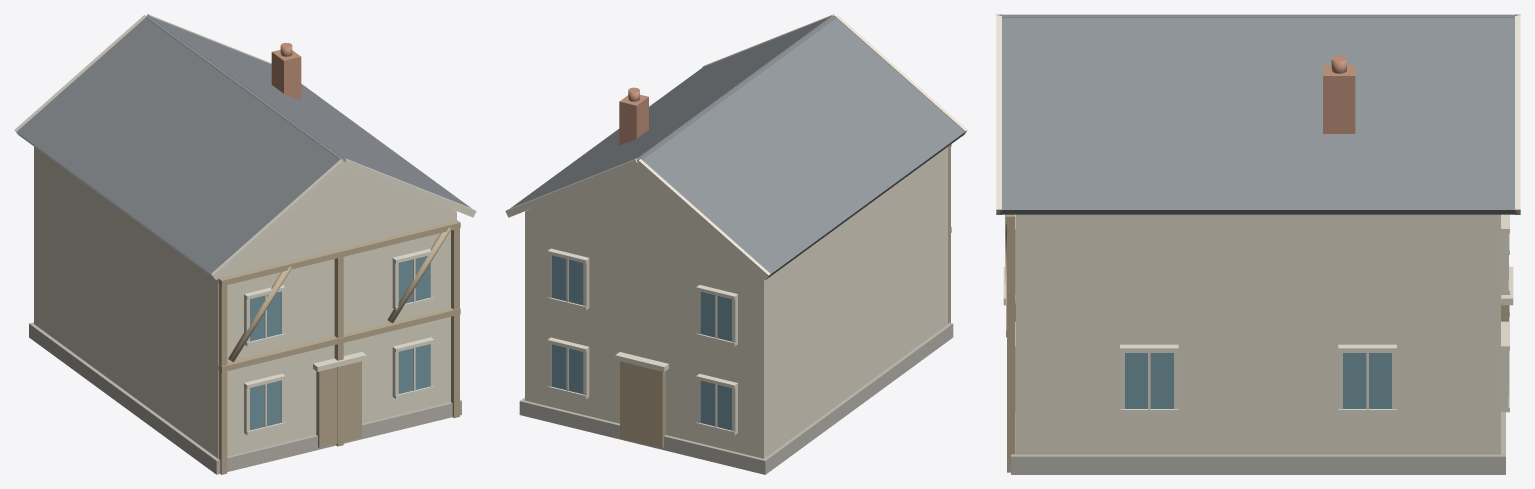
The model's file is rhine-half-timber_lod0.glb.
3 views of the same model, side by side, from view 1: azimuth 30°, elevation 25°; view 2: azimuth 150°, elevation 25°; view 3: azimuth 270°, elevation 25° (orthographic). The views are drawn at different scales.
Parts seen in each view (by area): view 1: RF_Body, RF_Roof.001, RF_Gable, RF_Roof, RF_Foundation, RF_Door.001, RF_TimberBand, RF_TimberBand.001, RF_TimberPost.001, RF_TimberPost, RF_Vergeband.001, RF_TimberPost.002 (+11 smaller); view 2: RF_Body, RF_Roof.001, RF_Gable.001, RF_Roof, RF_Foundation, RF_Door, RF_Vergeband.002, RF_Window.007, RF_Window.008, RF_Window.005, RF_Window.006, RF_Chimney (+5 smaller); view 3: RF_Body, RF_Roof, RF_Foundation, RF_Window.009, RF_Window, RF_Chimney, RF_TimberPost, RF_Ridge, RF_Vergeband, RF_Vergeband.003, RF_Roof.001, RF_WindowFrame.016.
Boxes of the visible parts, x1,y1,x2,y2 form: RF_Body: (34, 147, 456, 458); RF_Roof.001: (17, 17, 340, 277); RF_Gable: (233, 167, 456, 265); RF_Roof: (149, 16, 471, 208); RF_Foundation: (29, 322, 461, 474); RF_Door.001: (316, 361, 361, 447); RF_TimberBand: (218, 220, 460, 286); RF_TimberBand.001: (218, 308, 460, 372); RF_TimberPost.001: (218, 277, 227, 474); RF_TimberPost: (451, 221, 459, 418); RF_Vergeband.001: (211, 159, 346, 279); RF_TimberPost.002: (334, 248, 343, 446); RF_Body: (525, 147, 947, 458); RF_Roof.001: (641, 17, 965, 277); RF_Gable.001: (525, 167, 748, 265); RF_Roof: (510, 16, 832, 208); RF_Foundation: (519, 323, 953, 474); RF_Door: (620, 361, 665, 448); RF_Vergeband.002: (636, 159, 770, 280); RF_Window.007: (551, 344, 583, 394); RF_Window.008: (551, 255, 583, 305); RF_Window.005: (700, 380, 731, 430); RF_Window.006: (700, 291, 731, 341); RF_Chimney: (619, 94, 648, 145); RF_Body: (1016, 214, 1500, 454); RF_Roof: (1000, 16, 1516, 214); RF_Foundation: (1011, 412, 1505, 474); RF_Window.009: (1125, 353, 1173, 408); RF_Window: (1343, 353, 1391, 408); RF_Chimney: (1323, 65, 1355, 133); RF_TimberPost: (1007, 214, 1015, 472); RF_Ridge: (999, 15, 1517, 17); RF_Vergeband: (1515, 16, 1520, 214); RF_Vergeband.003: (996, 16, 1001, 214); RF_Roof.001: (1000, 14, 1516, 15); RF_WindowFrame.016: (1501, 227, 1508, 294).
Size of the model in its own units: 9.93 by 10.47 by 12.98.
